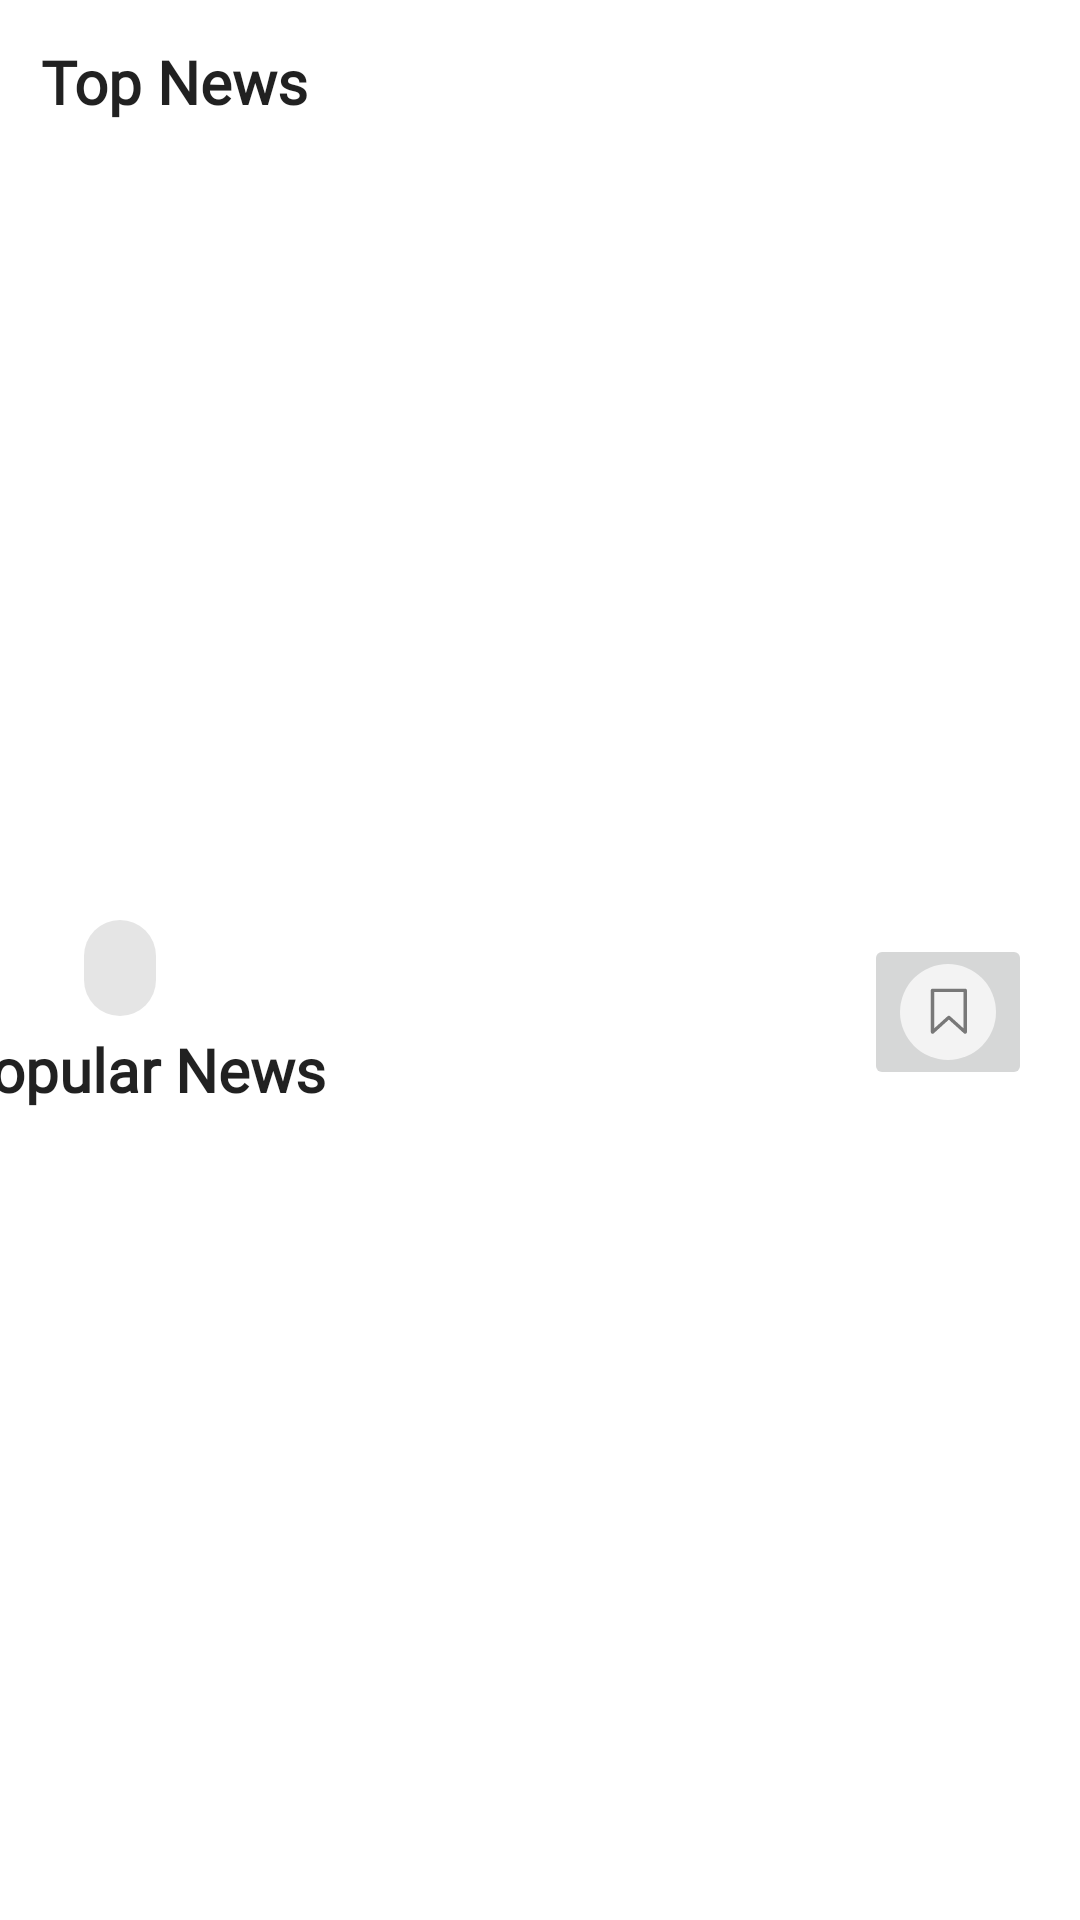

Point at icon controls on the screen. Image size 1080×1920, points as (x,y).
bookmark topnews: (948,1012)
